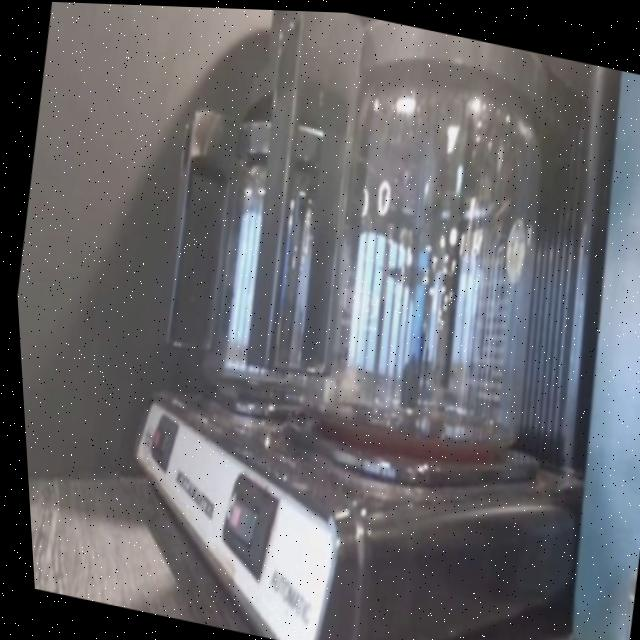nocoffee: (293, 92, 570, 464), (189, 172, 320, 389)
